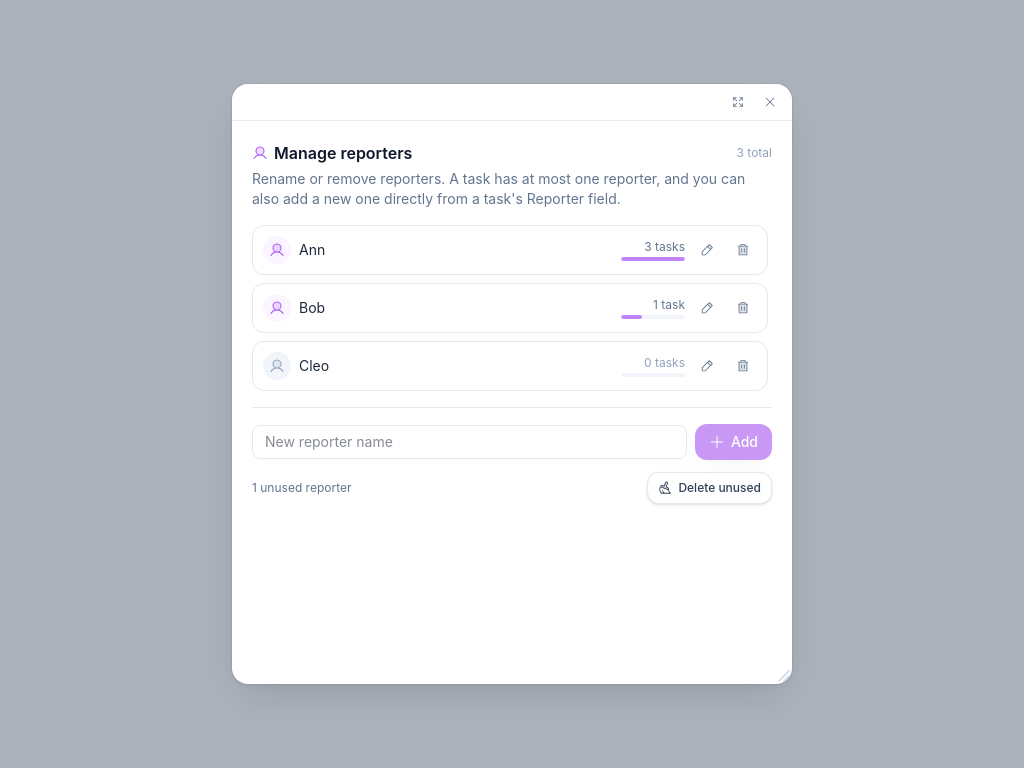
Scenario: ReporterManager › shows an error when deleting fails
The image size is (1024, 768).
Click the button named "Delete reporter Cleo" at point(743, 366), box [729,352,757,380]
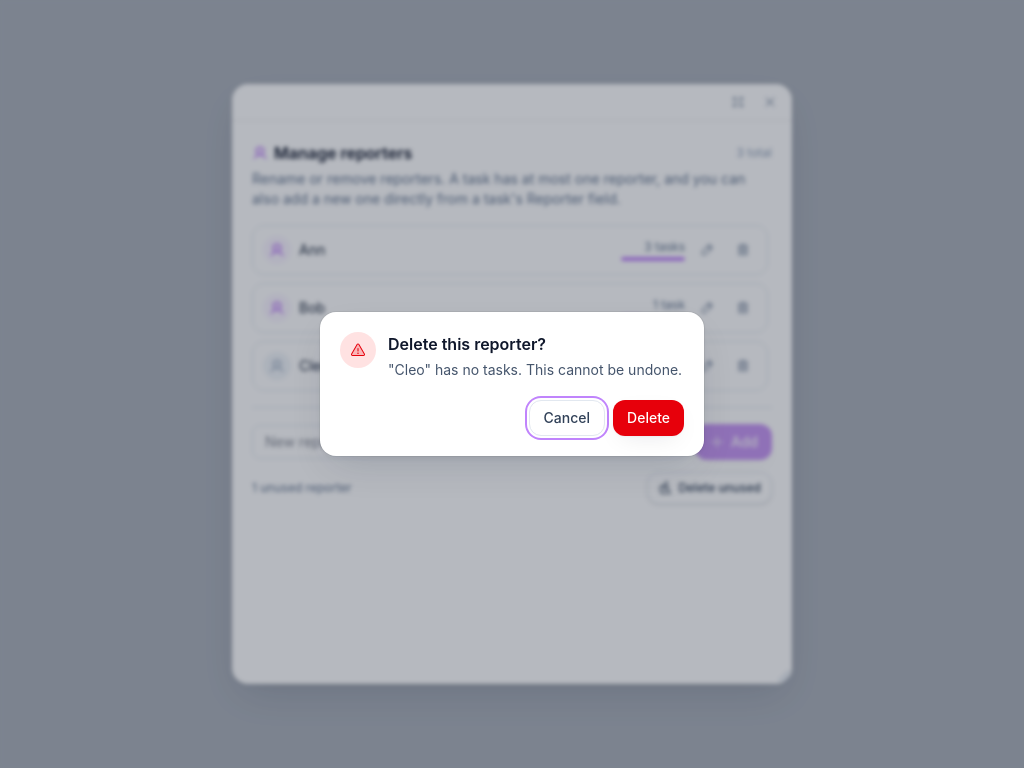
Click the button "Delete" at point(649, 418), box [613,400,684,436]
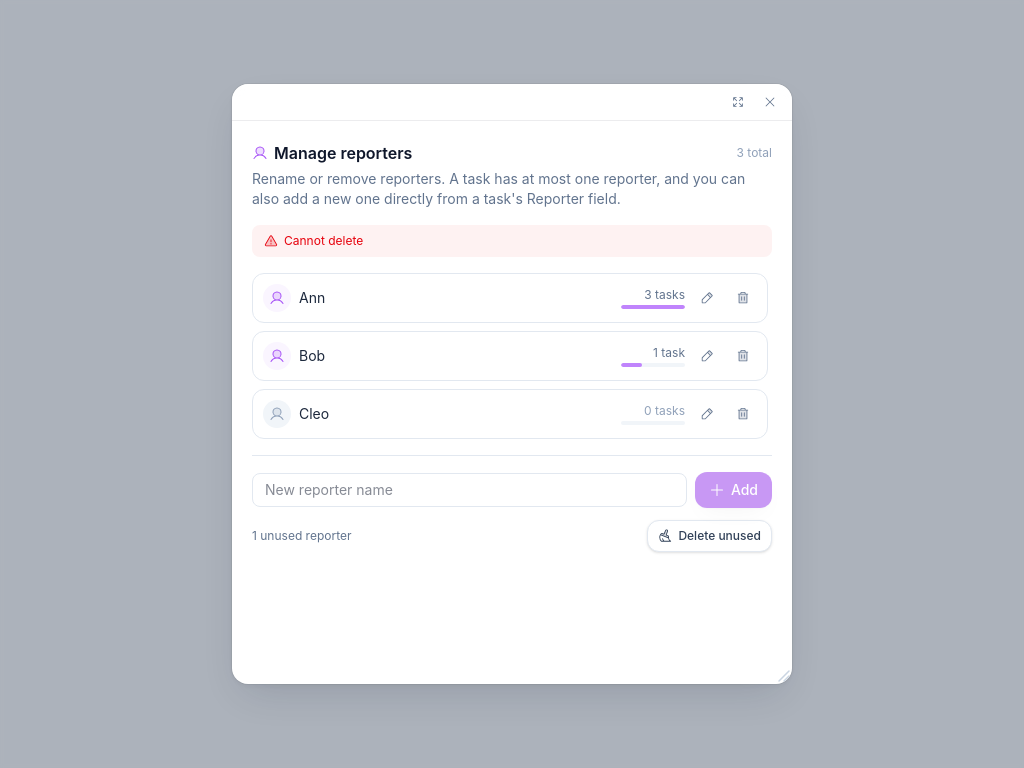
Expected: the message reads "Cannot delete", [284,233,363,248]
